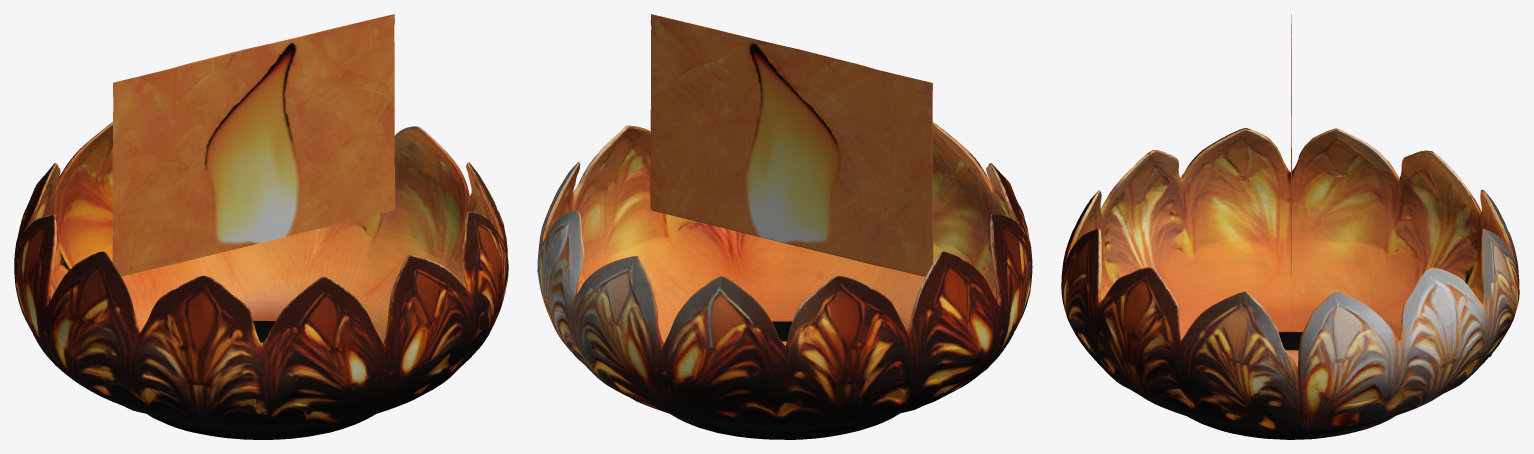
The model's file is palm-fiber-fire-starter-art-deco.jpeg.glb.
3 views of the same model, side by side, from view 1: azimuth 30°, elevation 25°; view 2: azimuth 150°, elevation 25°; view 3: azimuth 270°, elevation 25° (orthographic). The views are drawn at different scales.
Visible parts, largest first — view 1: world; view 2: world; view 3: world.
Boxes of the visible parts, left/top/right/bottom form: world: left=14, top=14, right=508, bottom=439; world: left=537, top=14, right=1032, bottom=439; world: left=1061, top=14, right=1519, bottom=439.
Size of the model in its own units: 0.9963 by 0.742 by 0.9975.
Materials: 1 (1 with a texture image).
